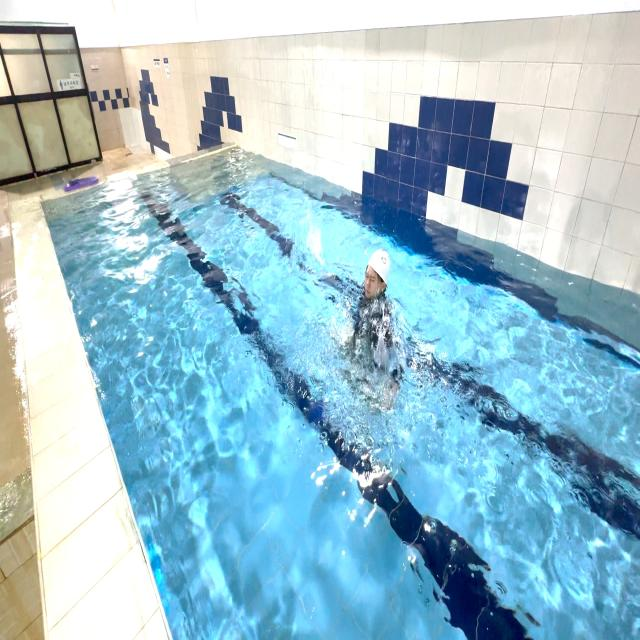Drowning: (314, 245, 432, 398)
